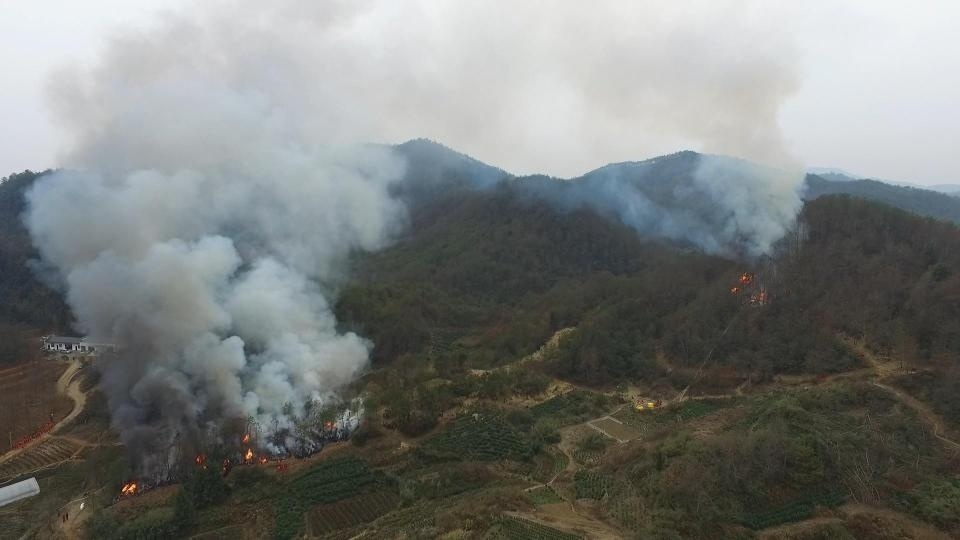fire: (108, 407, 356, 495), (719, 259, 780, 310)
